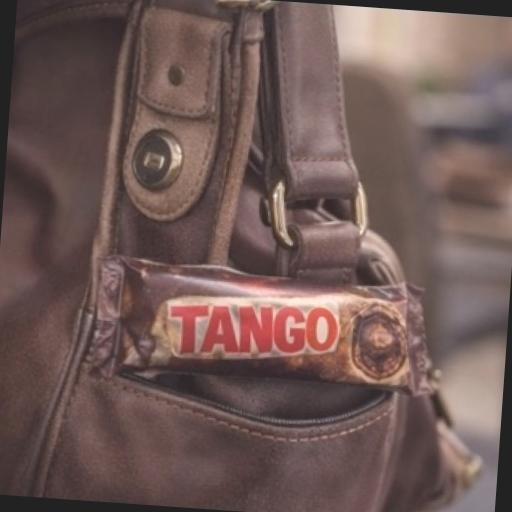tango: (57, 182, 476, 452)
